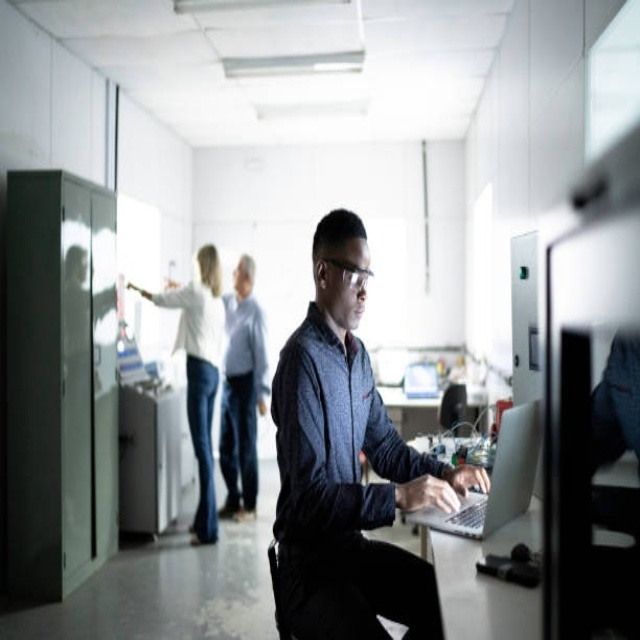Gafas: (321, 257, 374, 290)
Sin_guantes: (399, 472, 456, 516), (454, 463, 490, 502)
Sin_mascara: (346, 298, 364, 328)
